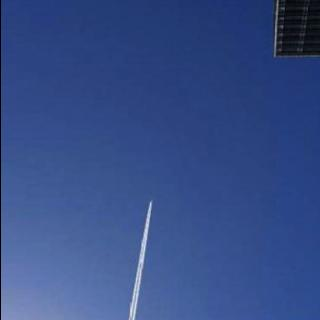Contrails: (98, 194, 166, 320)
